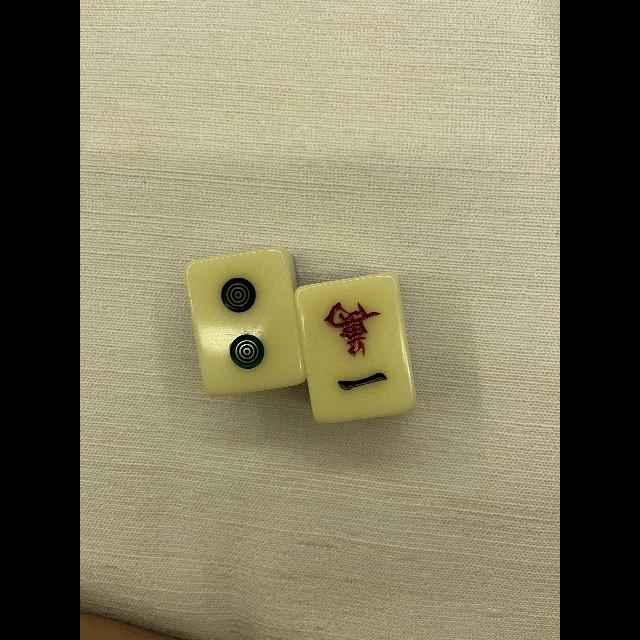c1: (306, 280, 408, 418)
d2: (192, 255, 296, 390)
